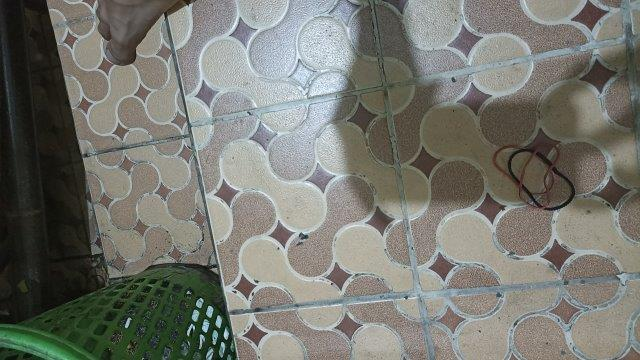karet: (493, 144, 576, 211)
